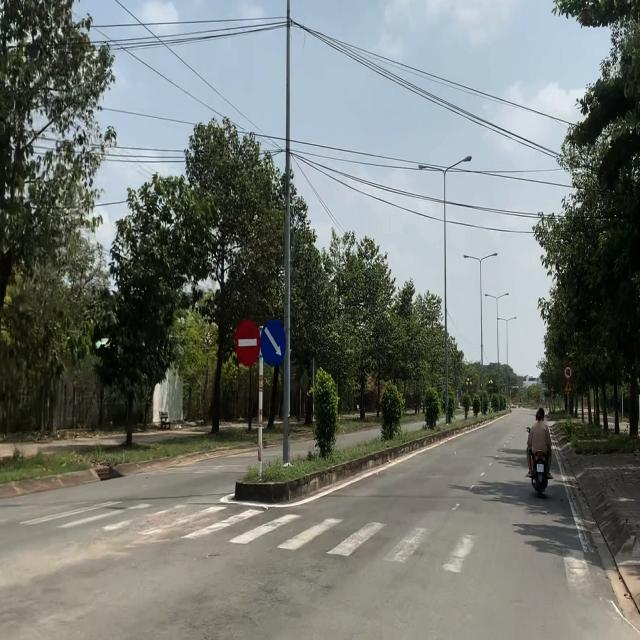Cam nguoc chieu: (235, 318, 260, 367)
Hieu lenh: (260, 318, 286, 368)
